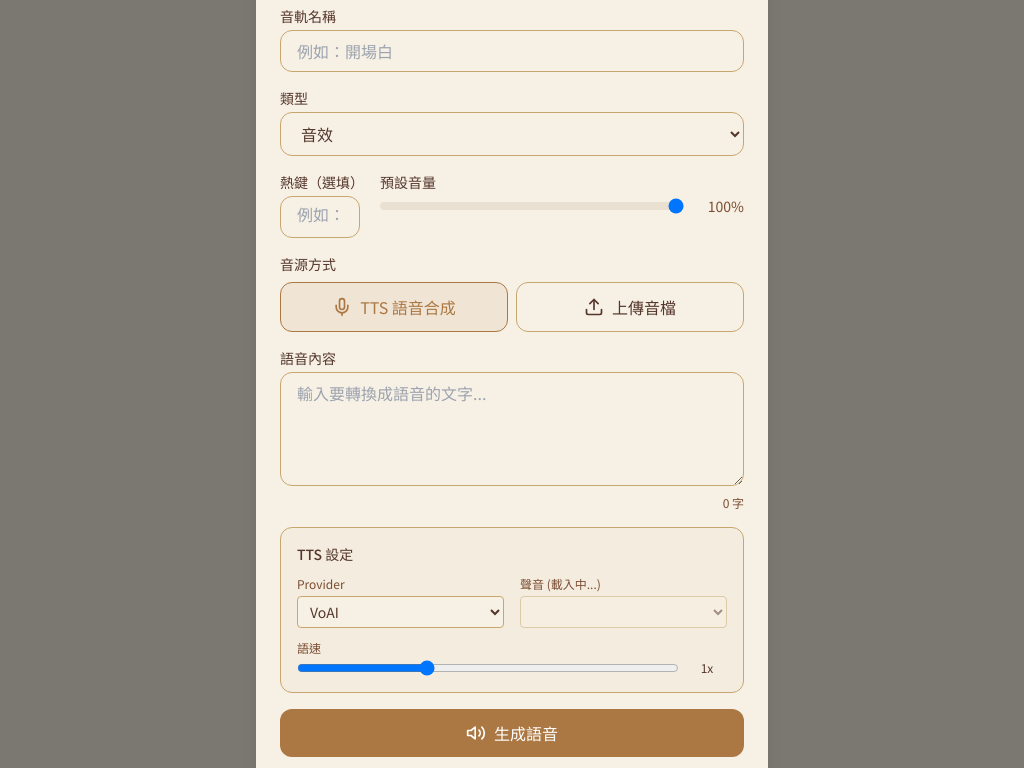
Test: TrackEditorModal › Audio source mode toggle › switches back to TTS mode when TTS button is clicked
Note: Switch to upload
Click the button "上傳音檔".
click(630, 306)  # box [516,282,744,332]
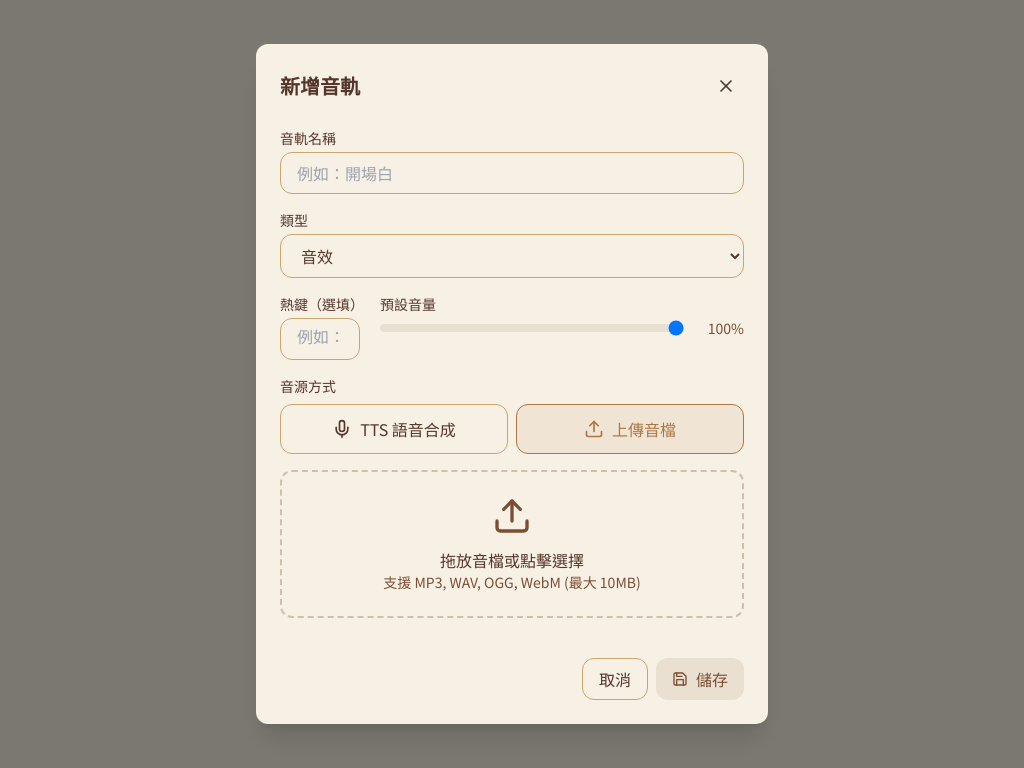
Expected: the heading "TTS 設定" is gone
Note: Switch back to TTS
Click the button "TTS 語音合成".
click(394, 429)  # box [280,404,508,454]
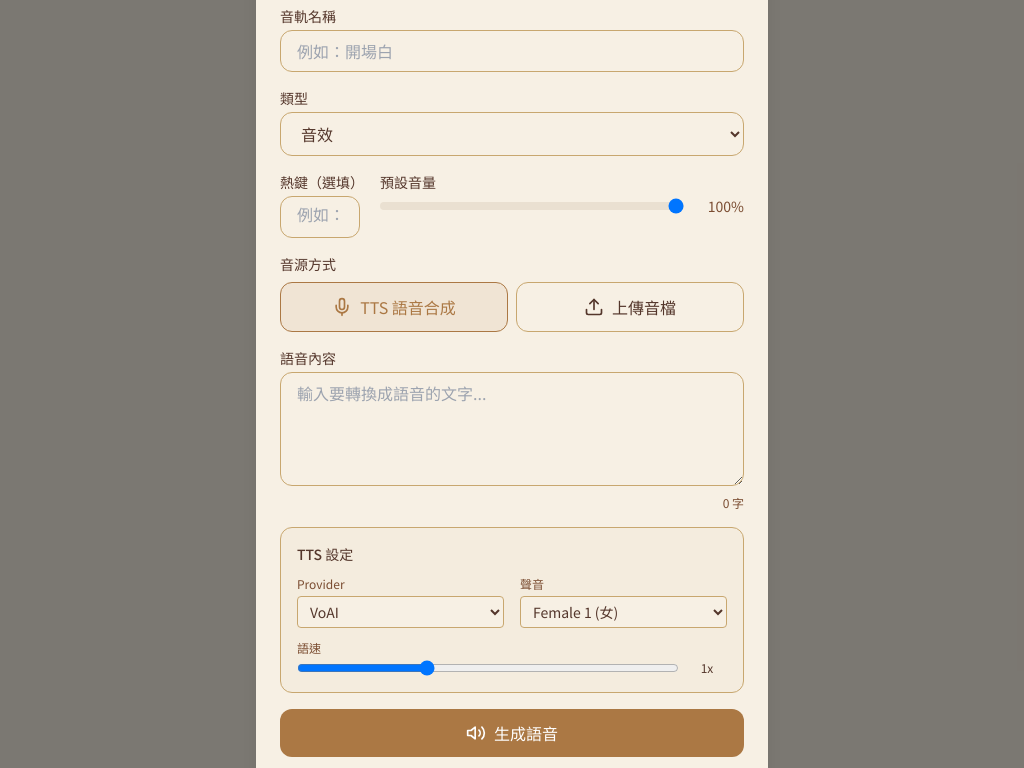
Expected: the heading "TTS 設定" is shown, [297,544,353,564]
